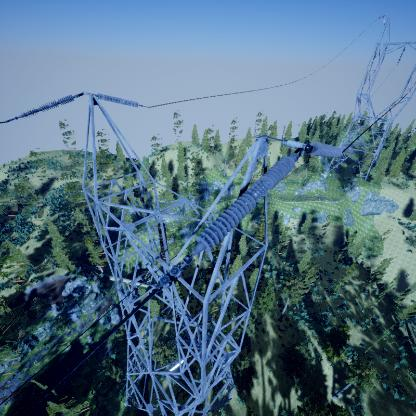insulator: (195, 152, 297, 254), (21, 95, 74, 117), (87, 90, 141, 109)
